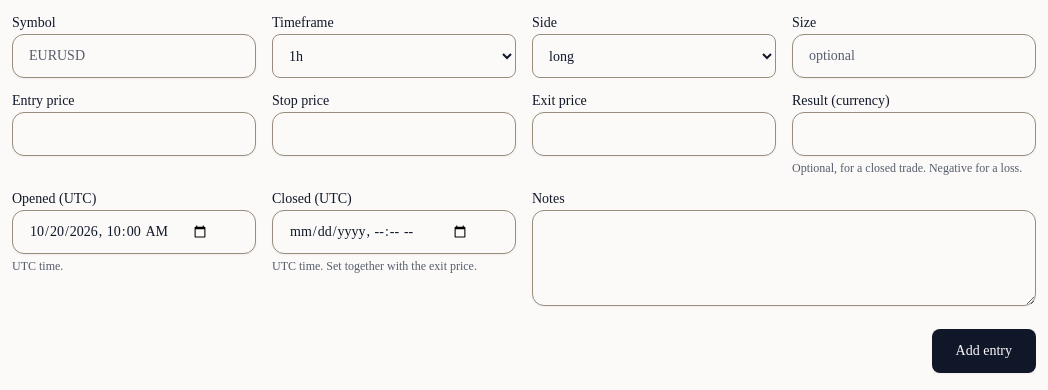
Test: JournalForm › shows each field error, marks it invalid and focuses the first one
Click the button "Add entry" at (984, 351), box [932,329,1036,373]
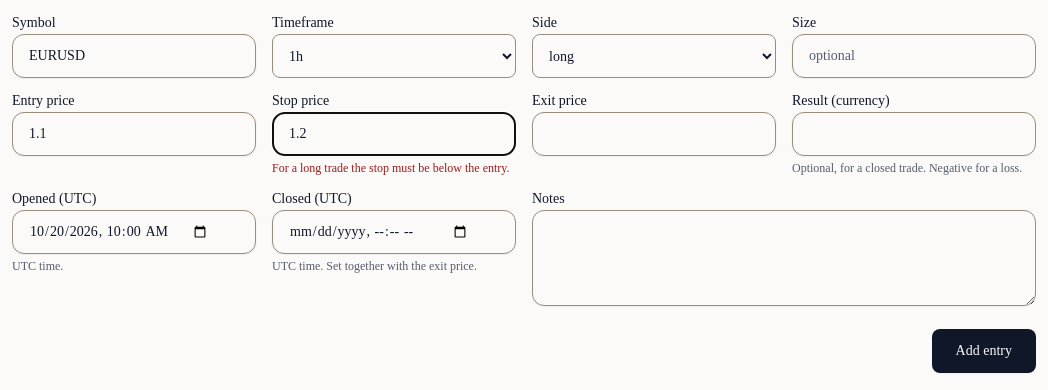
Check: the field labelled "Stop price" holds "1.2", box [272,112,516,156]
